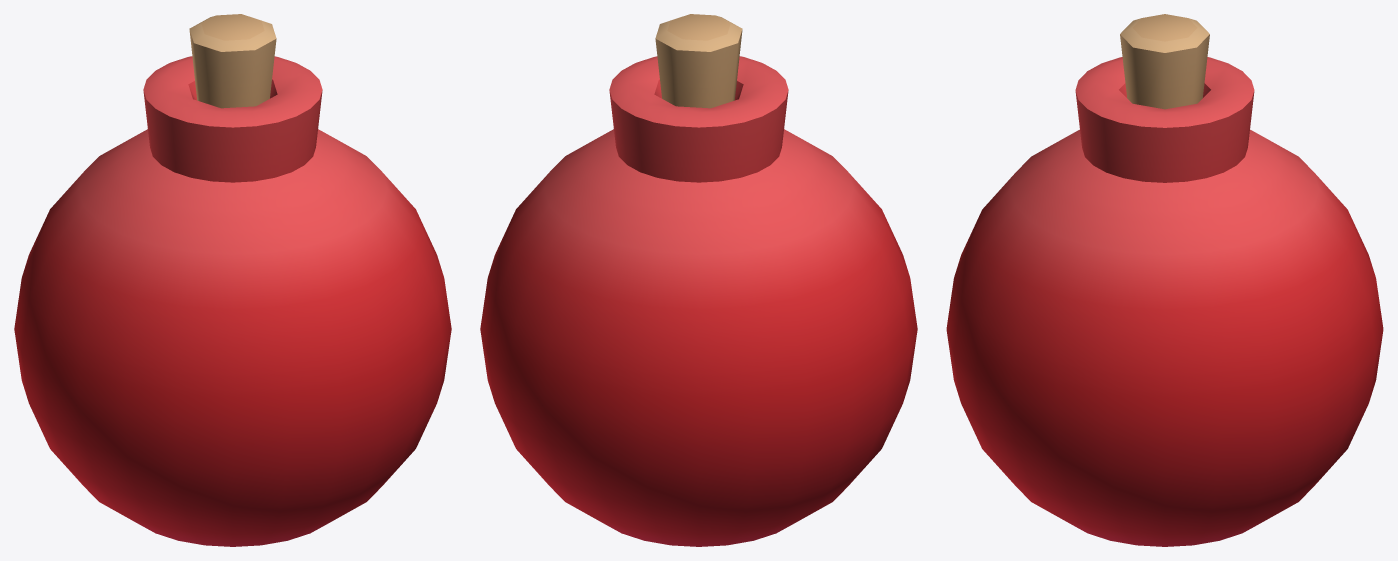
Rendered from bomb_A_red.glb.
The picture shows the model from 3 angles, left to right: view 1: azimuth 30°, elevation 25°; view 2: azimuth 150°, elevation 25°; view 3: azimuth 270°, elevation 25°; orthographic projection.
Parts seen in each view (by area): view 1: bomb_A_red; view 2: bomb_A_red; view 3: bomb_A_red.
Boxes of the visible parts, box(x1,y1,x2,y2) form: bomb_A_red: box(14, 14, 451, 546); bomb_A_red: box(480, 14, 917, 546); bomb_A_red: box(946, 14, 1383, 546).
Size of the model in its own units: 0.8 by 1.01 by 0.8.
1 material, 1 textured.
